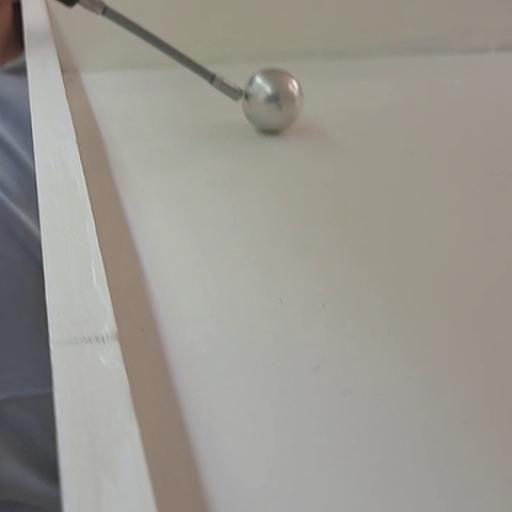alive: (242, 67, 304, 134)
